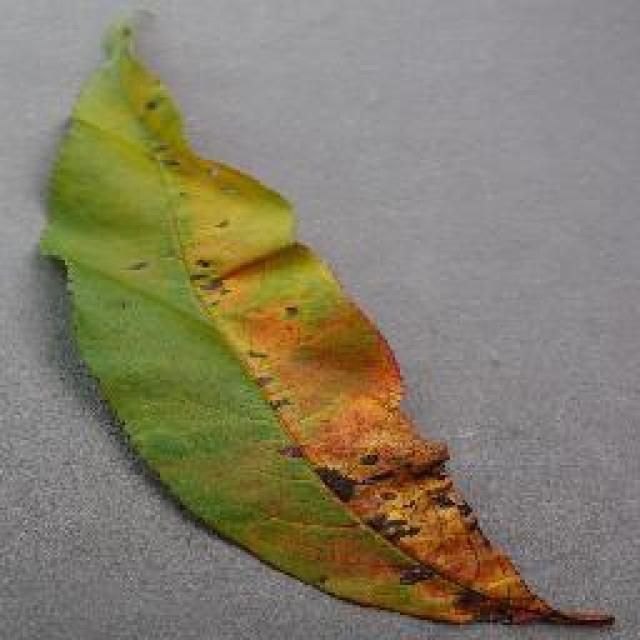Peach_Bacterial_Spot: (87, 60, 583, 583)
